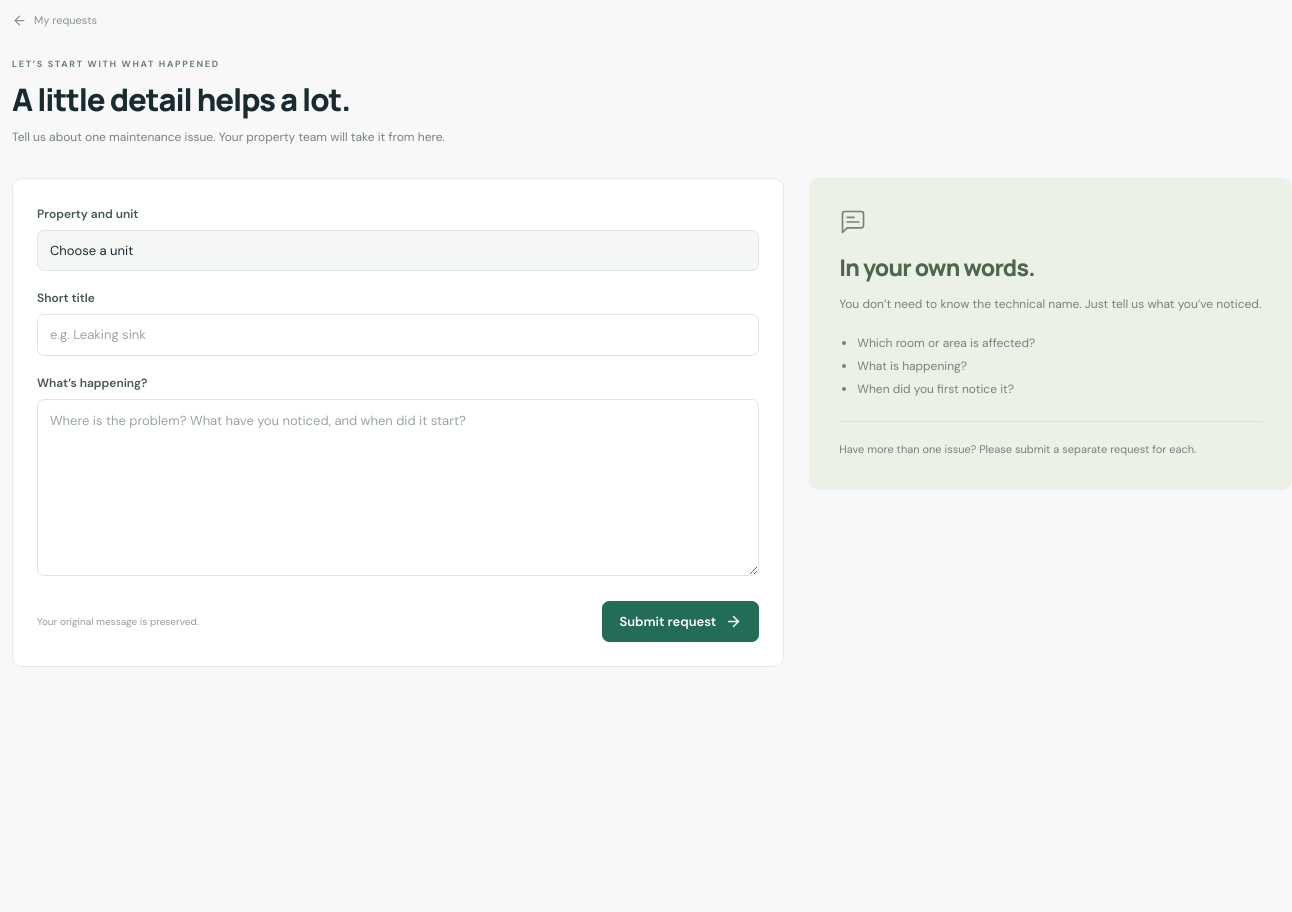
Test case: tenant intake › validates required fields before submission
Expected: the field labelled "Short title" is shown, [37,314,759,356]
Click the button "Submit request": (681, 621) [602,600,759,642]
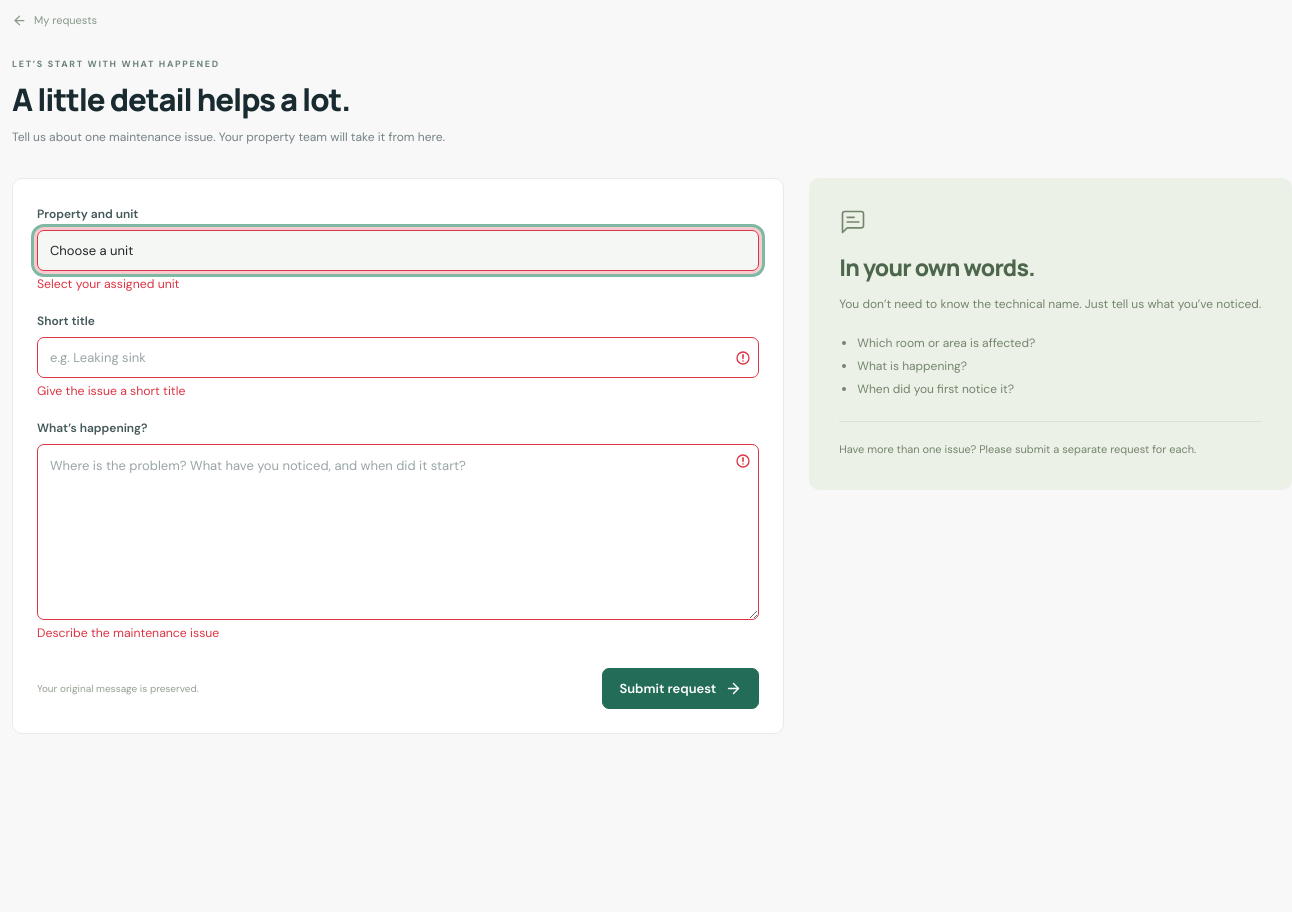
Expected: the text "Select your assigned unit" is shown, [37,276,179,292]
Expected: the text "Give the issue a short title" is shown, [37,383,185,399]
Expected: the text "Describe the maintenance issue" is shown, [37,625,219,641]
